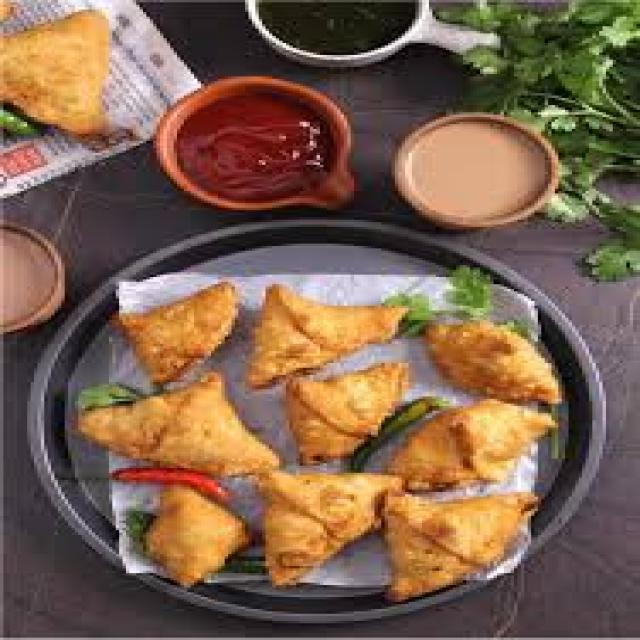SAMOSA: (82, 373, 276, 475), (245, 284, 402, 384), (262, 473, 398, 583), (388, 399, 551, 487), (385, 494, 524, 597), (119, 282, 235, 382), (286, 363, 405, 456), (143, 485, 245, 583), (429, 322, 558, 399)
